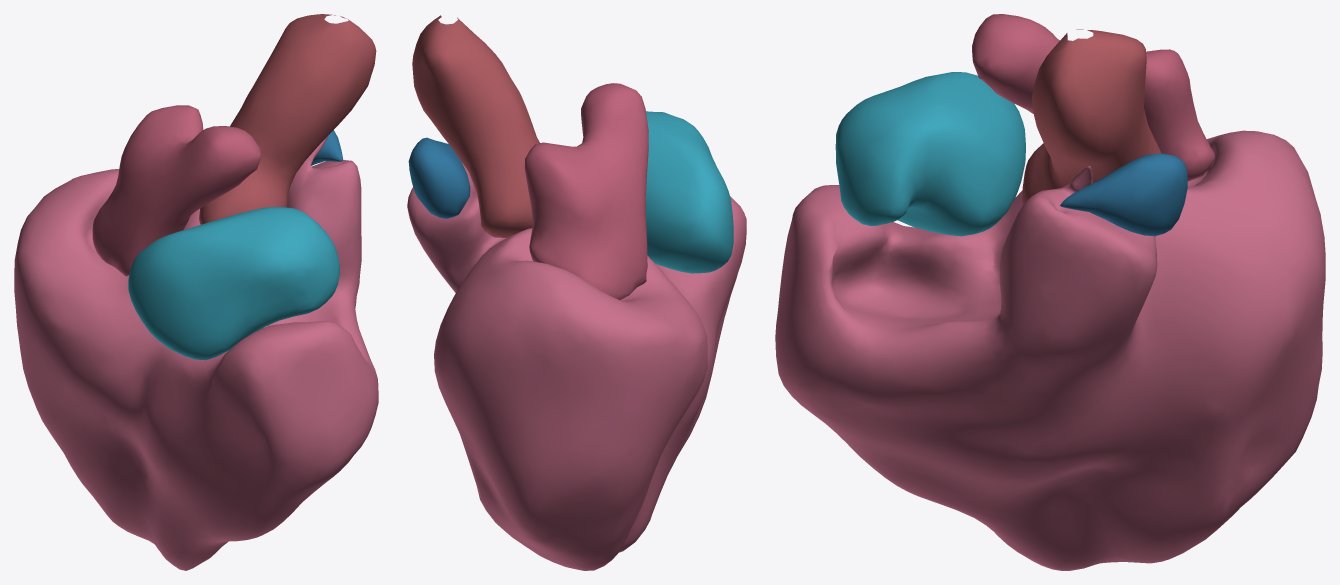
File: frame_69.glb
3 renders of one model, left to right at view 1: azimuth 30°, elevation 25°; view 2: azimuth 150°, elevation 25°; view 3: azimuth 270°, elevation 25°, orthographic. The views are drawn at different scales.
Visible parts, largest first — view 1: Renderer Node; view 2: Renderer Node; view 3: Renderer Node.
Part boxes in pixels (x1,y1,x2,y2): Renderer Node: (14, 14, 378, 570); Renderer Node: (407, 15, 746, 570); Renderer Node: (775, 14, 1325, 570).
Bounding box in the file's own units: 103 × 162 × 127.
